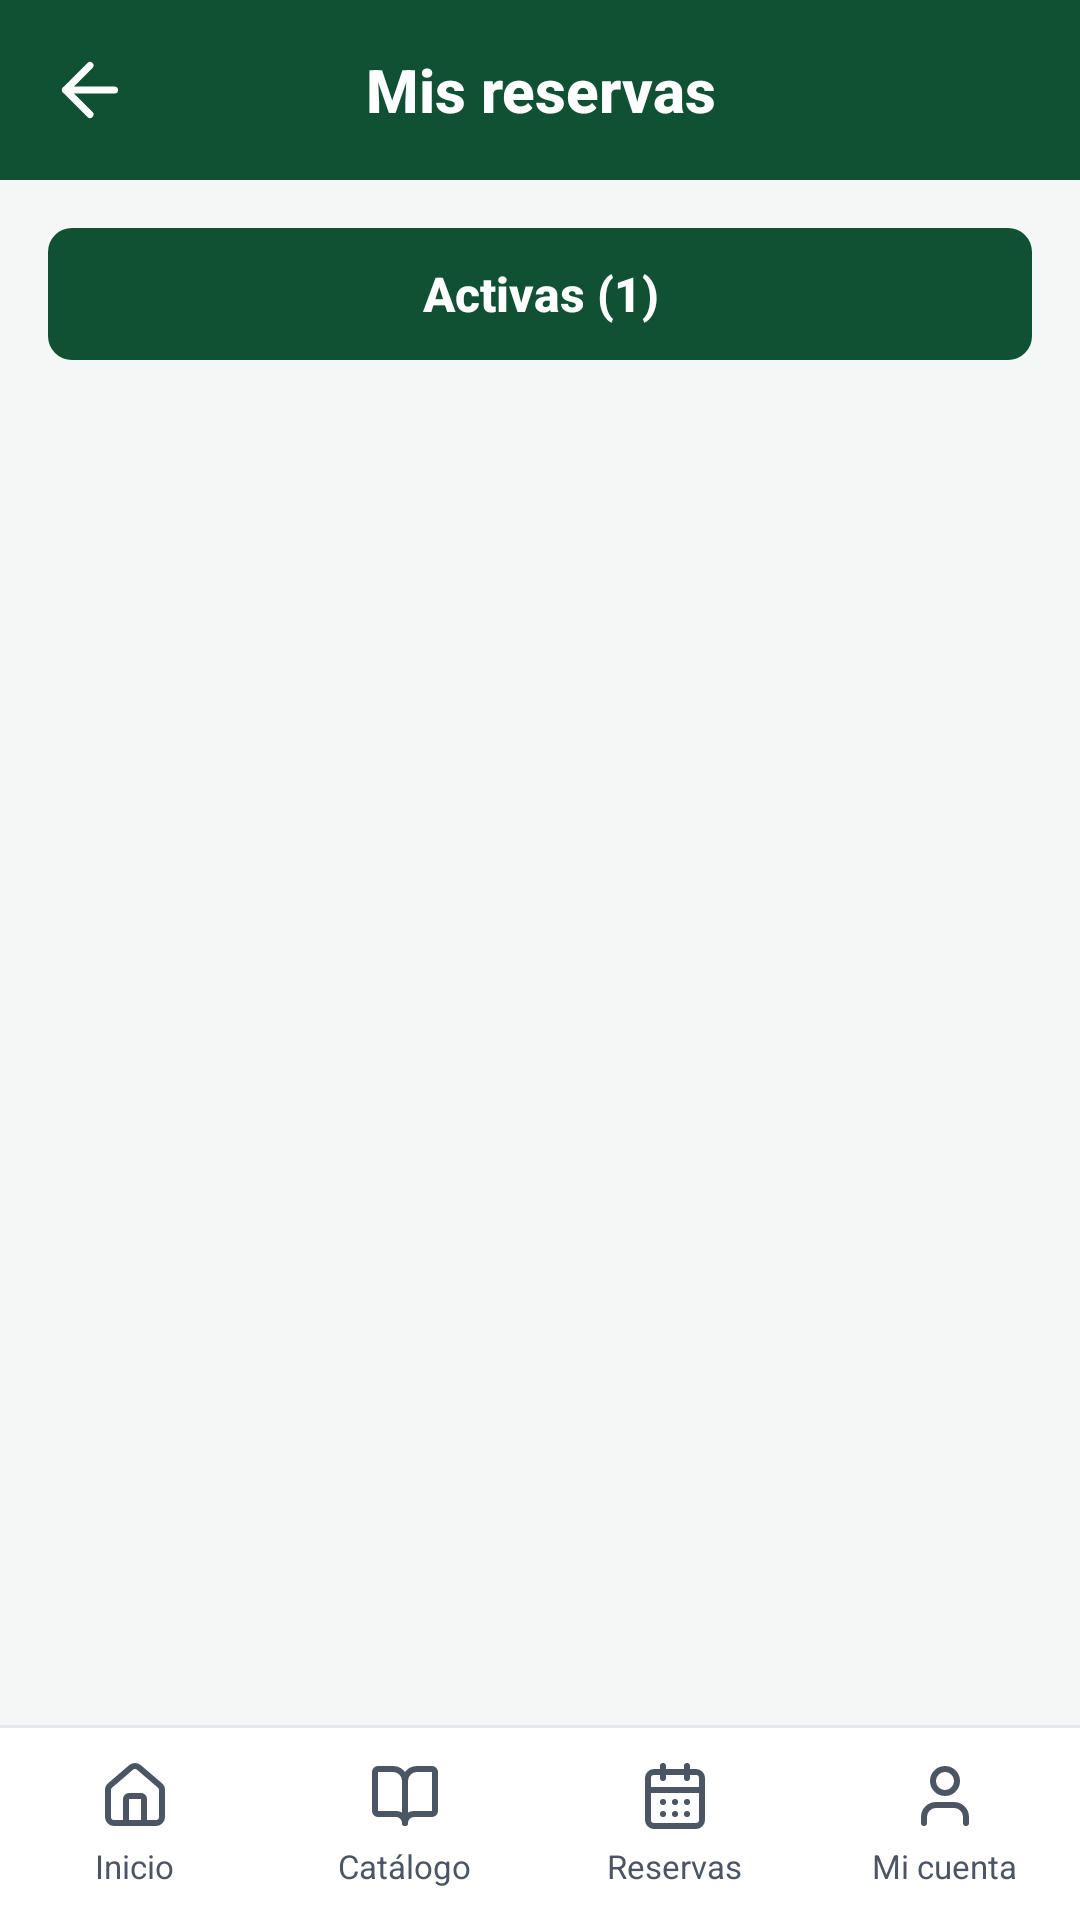

Screen size 1080x1920. Icon name, then its center in pixels as point (x, y):
calendario: point (675, 1796)
casa: point (135, 1794)
flecha atras: point (90, 90)
libro abierto: point (405, 1796)
usuario: point (945, 1796)
